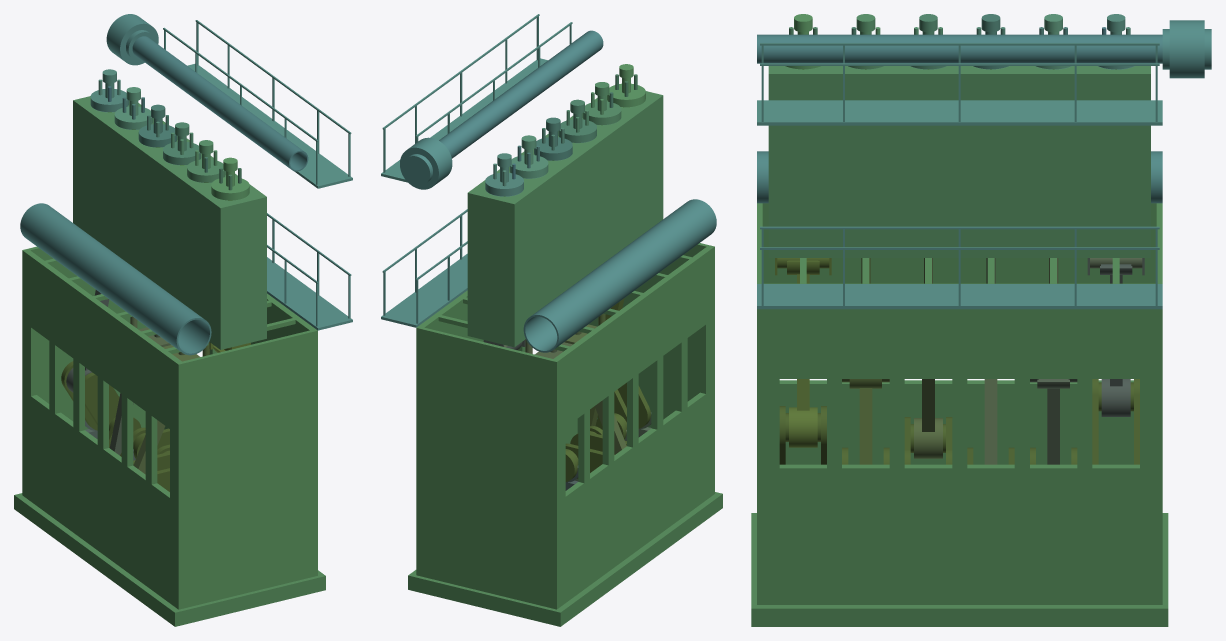
The model's file is engine_full.glb.
3 views of the same model, side by side, from view 1: azimuth 30°, elevation 25°; view 2: azimuth 150°, elevation 25°; view 3: azimuth 270°, elevation 25° (orthographic). The views are drawn at different scales.
Parts seen in each view (by area): view 1: ENGINE_FRAME, ENGINE_CYLINDER_FRAME, ENGINE_SCAVENGE_RECEIVER, ENGINE_BEDPLATE, ENGINE_EXHAUST_RECEIVER, ENGINE_GALLERY_UPPER, ENGINE_GALLERY_LOWER, ENGINE_CRANKSHAFT, ENGINE_TURBOCHARGER, CYL_01_COVER, CYL_04_COVER, CYL_02_COVER (+3 smaller); view 2: ENGINE_FRAME, ENGINE_CYLINDER_FRAME, ENGINE_SCAVENGE_RECEIVER, ENGINE_BEDPLATE, ENGINE_EXHAUST_RECEIVER, ENGINE_GALLERY_LOWER, ENGINE_GALLERY_UPPER, ENGINE_CRANKSHAFT, ENGINE_TURBOCHARGER, CYL_06_COVER, CYL_05_COVER, CYL_03_COVER (+3 smaller); view 3: ENGINE_FRAME, ENGINE_CYLINDER_FRAME, ENGINE_GALLERY_LOWER, ENGINE_GALLERY_UPPER, ENGINE_EXHAUST_RECEIVER, ENGINE_BEDPLATE, ENGINE_CRANKSHAFT, ENGINE_TURBOCHARGER, CYL_01_CONROD, CYL_03_CONROD, CYL_06_CONROD, CYL_02_CONROD (+3 smaller).
Part boxes in pixels (bbox=[...]): ENGINE_FRAME: bbox=[22, 246, 317, 609]; ENGINE_CYLINDER_FRAME: bbox=[73, 96, 266, 349]; ENGINE_SCAVENGE_RECEIVER: bbox=[20, 203, 211, 355]; ENGINE_BEDPLATE: bbox=[14, 493, 325, 626]; ENGINE_EXHAUST_RECEIVER: bbox=[132, 36, 308, 171]; ENGINE_GALLERY_UPPER: bbox=[163, 20, 352, 188]; ENGINE_GALLERY_LOWER: bbox=[267, 213, 352, 330]; ENGINE_CRANKSHAFT: bbox=[61, 361, 169, 491]; ENGINE_TURBOCHARGER: bbox=[106, 14, 158, 65]; CYL_01_COVER: bbox=[211, 177, 249, 200]; CYL_04_COVER: bbox=[138, 124, 177, 147]; CYL_02_COVER: bbox=[187, 159, 225, 182]; ENGINE_FRAME: bbox=[416, 243, 714, 609]; ENGINE_CYLINDER_FRAME: bbox=[467, 91, 663, 347]; ENGINE_SCAVENGE_RECEIVER: bbox=[523, 199, 716, 352]; ENGINE_BEDPLATE: bbox=[408, 492, 722, 626]; ENGINE_EXHAUST_RECEIVER: bbox=[439, 30, 603, 158]; ENGINE_GALLERY_LOWER: bbox=[381, 209, 467, 327]; ENGINE_GALLERY_UPPER: bbox=[381, 14, 572, 182]; ENGINE_CRANKSHAFT: bbox=[565, 382, 650, 481]; ENGINE_TURBOCHARGER: bbox=[400, 137, 452, 189]; CYL_06_COVER: bbox=[485, 173, 523, 196]; CYL_05_COVER: bbox=[509, 155, 548, 178]; CYL_03_COVER: bbox=[558, 119, 596, 142]; ENGINE_FRAME: bbox=[757, 203, 1162, 604]; ENGINE_CYLINDER_FRAME: bbox=[768, 66, 1150, 257]; ENGINE_GALLERY_LOWER: bbox=[757, 226, 1162, 309]; ENGINE_GALLERY_UPPER: bbox=[757, 43, 1162, 125]; ENGINE_EXHAUST_RECEIVER: bbox=[757, 34, 1162, 63]; ENGINE_BEDPLATE: bbox=[751, 513, 1168, 626]; ENGINE_CRANKSHAFT: bbox=[779, 379, 1139, 464]; ENGINE_TURBOCHARGER: bbox=[1162, 20, 1211, 78]; CYL_01_CONROD: bbox=[787, 261, 819, 447]; CYL_03_CONROD: bbox=[914, 379, 942, 458]; CYL_06_CONROD: bbox=[1100, 266, 1132, 416]; CYL_02_CONROD: bbox=[849, 379, 881, 464].
Bounding box in the file's own units: 4.65 × 11.2 × 7.95.
